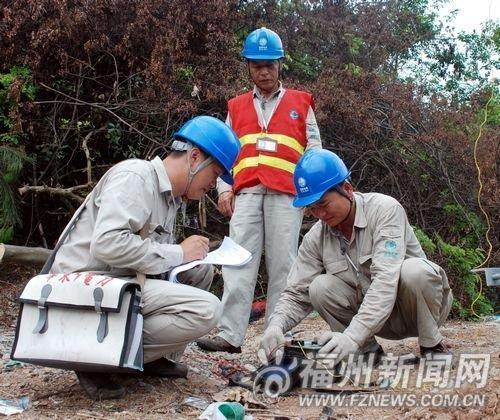helmet: (177, 111, 241, 178), (294, 147, 350, 209), (245, 27, 287, 63)
person: (39, 115, 238, 400), (222, 27, 325, 341), (294, 147, 448, 350)
vest: (234, 92, 303, 195)
